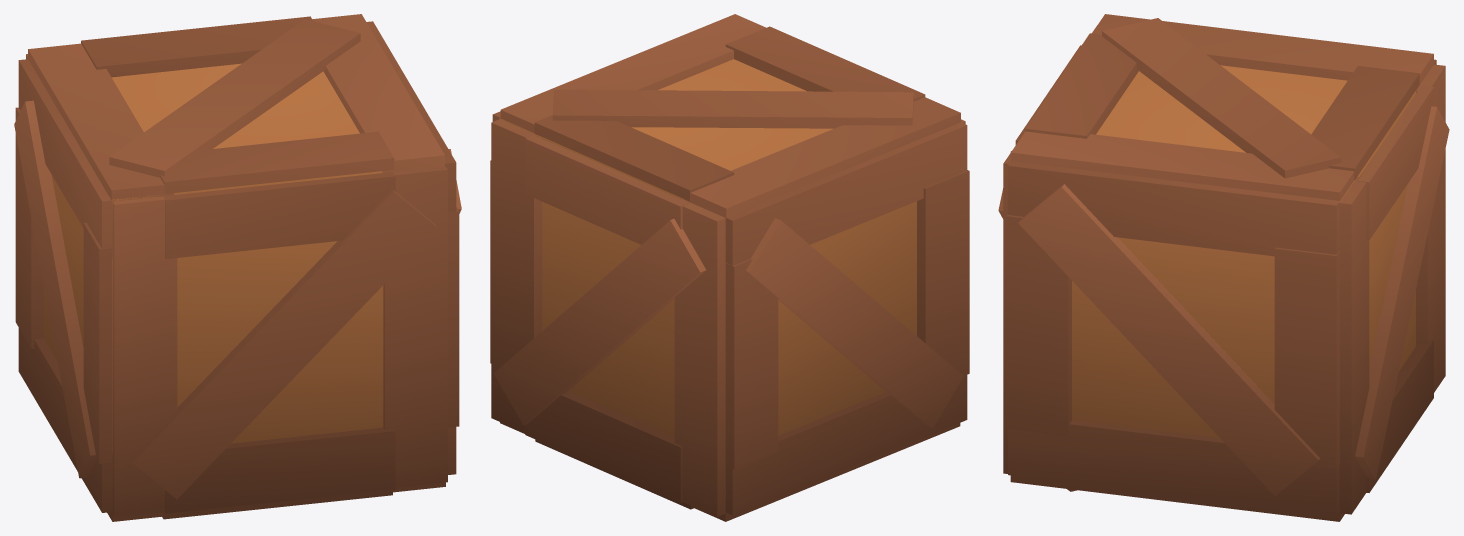
Rendered from simple_box.glb.
3 renders of one model, left to right at view 1: azimuth 30°, elevation 25°; view 2: azimuth 150°, elevation 25°; view 3: azimuth 270°, elevation 25°, orthographic. The views are drawn at different scales.
Parts seen in each view (by area): view 1: box_wood.013; view 2: box_wood.013; view 3: box_wood.013.
Part boxes in pixels (x1,y1,x2,y2): box_wood.013: (14,14,461,521); box_wood.013: (490,14,969,521); box_wood.013: (998,14,1449,521).
Size of the model in its own units: 0.5411 by 0.4563 by 0.5407.
2 materials, 2 textured.
